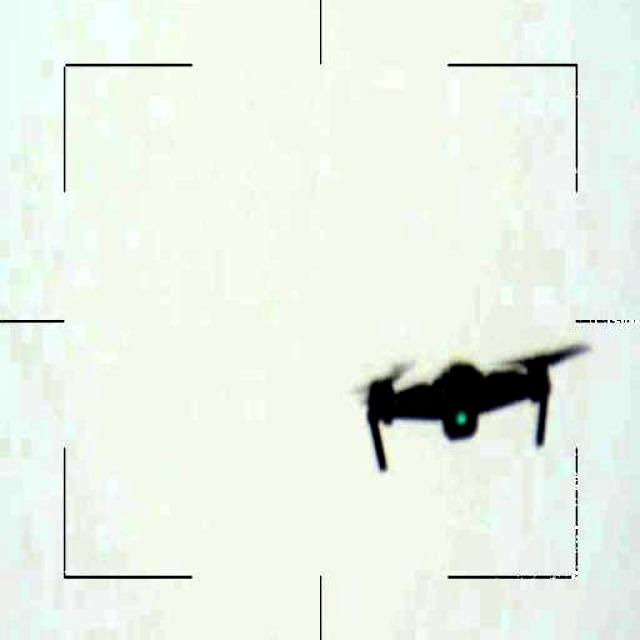bird: (320, 349, 598, 481)
